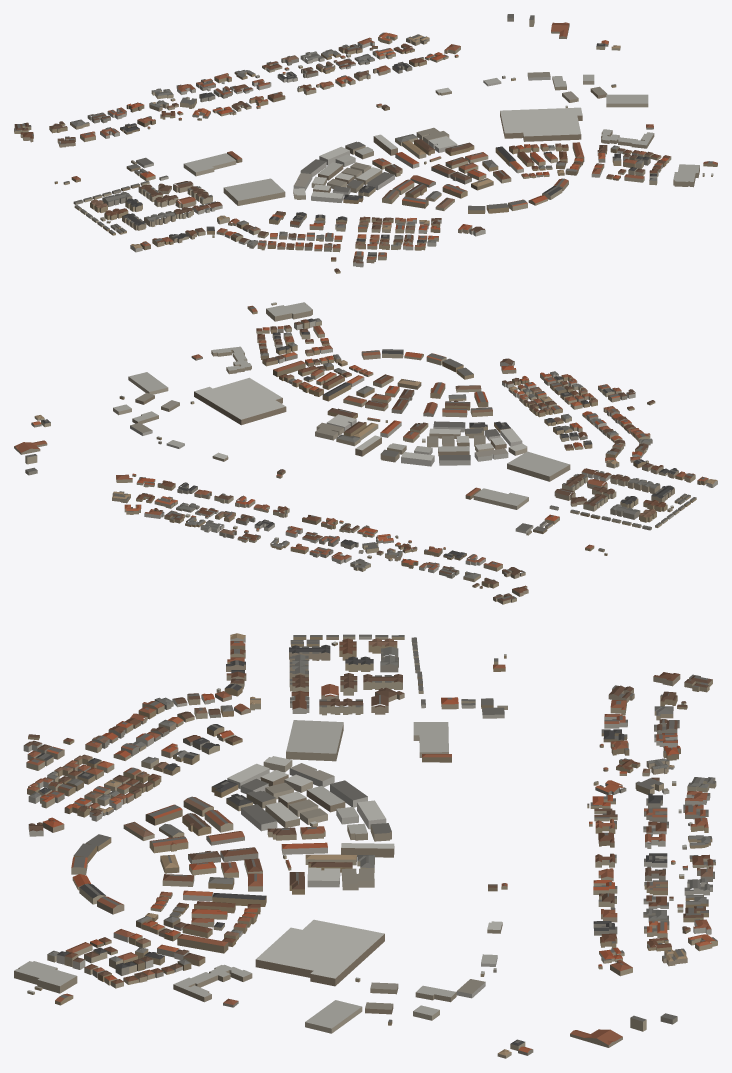
3 renders of one model, top to bottom at view 1: azimuth 30°, elevation 25°; view 2: azimuth 150°, elevation 25°; view 3: azimuth 270°, elevation 25°, orthographic. The views are drawn at different scales.
Visible parts, largest first — view 1: buildings_r3_c3_lod1; view 2: buildings_r3_c3_lod1; view 3: buildings_r3_c3_lod1.
Part boxes in pixels (bbox=[...]): buildings_r3_c3_lod1: bbox=[14, 14, 717, 273]; buildings_r3_c3_lod1: bbox=[14, 302, 717, 604]; buildings_r3_c3_lod1: bbox=[14, 633, 717, 1058].
Size of the model in its own units: 1121 by 33.02 by 813.
